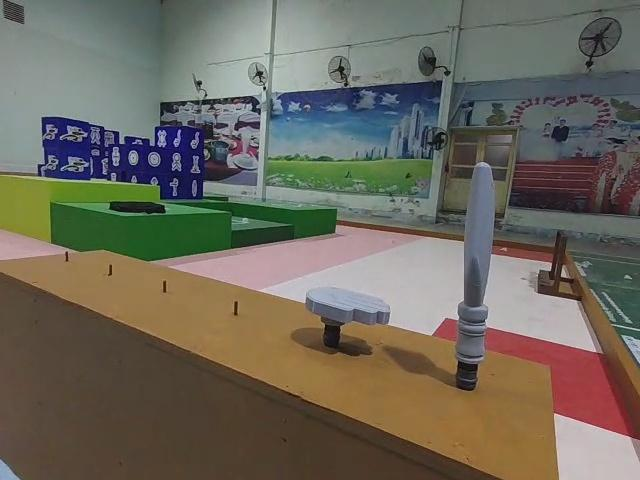Hand: (305, 284, 391, 349)
Sph: (452, 161, 500, 393)
